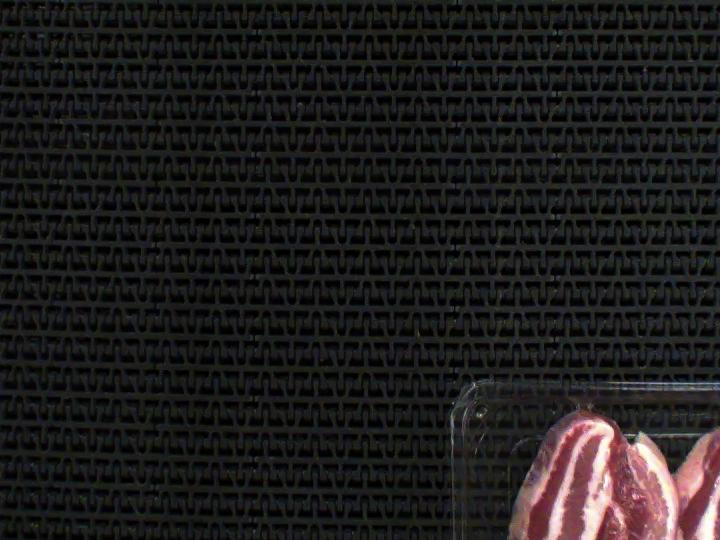packaging-error: (562, 388, 598, 417)
